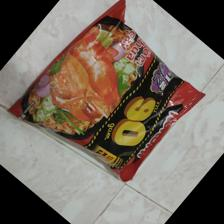Kokomi: (7, 1, 206, 182)
